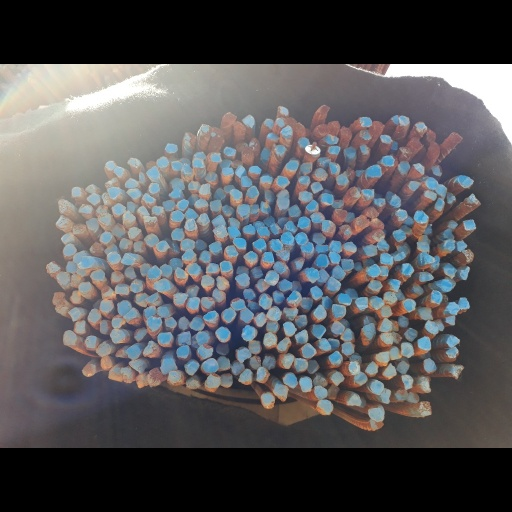dipstick: (352, 214, 370, 230), (76, 256, 95, 270), (111, 222, 127, 238), (416, 306, 433, 320), (55, 215, 70, 230), (221, 112, 237, 126), (366, 164, 382, 178), (420, 251, 436, 265), (368, 296, 384, 310), (100, 285, 115, 299), (147, 265, 162, 279), (397, 160, 411, 175), (402, 298, 416, 313), (424, 320, 439, 334), (423, 127, 436, 143), (457, 175, 473, 188), (461, 248, 474, 264), (89, 242, 103, 256), (313, 167, 327, 181), (399, 146, 413, 160), (414, 210, 428, 224), (446, 301, 460, 315), (45, 261, 60, 274), (144, 233, 159, 246), (160, 263, 173, 278), (180, 238, 195, 251), (366, 264, 381, 277), (322, 134, 339, 145), (378, 155, 395, 166), (56, 271, 69, 285), (129, 279, 143, 292), (241, 114, 255, 127), (306, 145, 320, 158), (299, 190, 313, 203), (320, 192, 334, 205), (450, 131, 464, 144), (427, 142, 440, 156), (411, 282, 424, 296), (401, 263, 414, 277), (364, 243, 378, 256), (86, 193, 101, 205), (72, 222, 87, 234), (72, 250, 87, 262), (87, 217, 99, 232), (111, 203, 126, 215), (120, 253, 135, 265), (110, 270, 125, 282), (90, 269, 105, 281), (411, 162, 426, 174), (369, 217, 384, 229), (391, 229, 406, 241), (430, 255, 440, 273), (57, 198, 68, 214), (445, 190, 456, 206), (363, 206, 379, 217), (63, 243, 76, 256), (99, 213, 112, 226), (213, 187, 226, 200), (300, 162, 313, 175), (430, 163, 443, 176), (425, 177, 438, 190), (442, 239, 455, 252), (443, 266, 456, 279), (432, 318, 445, 331), (355, 296, 368, 309), (169, 257, 183, 269), (185, 262, 199, 274), (182, 249, 196, 261), (170, 228, 184, 240), (183, 219, 197, 231), (162, 199, 176, 211), (170, 178, 184, 190), (182, 162, 194, 176), (211, 126, 223, 140), (248, 137, 260, 151), (276, 175, 290, 187), (245, 186, 259, 198), (336, 173, 348, 187), (415, 120, 427, 134), (469, 193, 481, 207), (394, 209, 408, 221), (458, 266, 470, 280), (443, 275, 455, 289), (376, 239, 390, 251), (367, 279, 381, 291), (383, 292, 397, 304), (115, 283, 130, 294), (184, 208, 199, 219), (358, 116, 373, 127), (360, 188, 375, 199), (436, 184, 447, 199), (399, 225, 414, 236), (419, 271, 434, 282), (65, 260, 77, 273), (99, 231, 112, 243), (96, 204, 109, 216), (146, 166, 159, 178), (123, 211, 136, 223), (107, 252, 120, 264), (199, 250, 211, 263), (176, 199, 189, 211), (233, 121, 246, 133), (340, 126, 352, 139), (371, 121, 384, 133), (343, 146, 356, 158), (343, 167, 355, 180), (409, 138, 422, 150), (463, 219, 476, 231), (442, 228, 455, 240), (372, 229, 385, 241), (440, 279, 452, 292), (345, 287, 358, 299), (125, 177, 139, 188), (127, 227, 141, 238), (119, 238, 133, 249), (70, 273, 81, 287), (78, 282, 92, 293), (242, 146, 253, 160), (260, 146, 271, 160), (284, 160, 298, 171), (317, 124, 331, 135), (390, 194, 401, 208), (430, 290, 441, 304), (389, 278, 400, 292), (126, 188, 141, 198), (155, 241, 170, 251), (316, 157, 331, 167), (127, 156, 139, 168), (108, 187, 120, 199), (133, 240, 145, 252), (124, 266, 136, 278), (348, 186, 360, 198), (456, 240, 468, 252), (380, 305, 392, 317), (126, 200, 137, 213), (139, 263, 150, 276), (175, 266, 186, 279), (168, 187, 181, 198), (165, 143, 178, 154), (192, 157, 205, 168), (187, 180, 200, 191), (183, 131, 196, 142), (200, 124, 211, 137), (328, 120, 341, 131), (329, 162, 340, 175), (310, 181, 323, 192), (416, 241, 429, 252), (458, 296, 469, 309), (60, 233, 74, 243), (142, 193, 156, 203), (194, 198, 208, 208), (434, 197, 444, 211), (391, 251, 405, 261), (416, 234, 431, 243), (113, 166, 124, 178), (148, 182, 160, 193), (138, 205, 150, 216), (187, 193, 198, 205), (234, 165, 245, 177), (277, 105, 289, 116), (281, 126, 293, 137), (241, 175, 252, 187), (230, 189, 242, 200), (318, 104, 330, 115), (398, 115, 410, 126), (379, 133, 391, 144), (104, 160, 117, 170), (79, 203, 92, 213), (105, 244, 118, 254), (204, 171, 217, 181), (223, 146, 236, 156), (327, 145, 340, 155), (407, 181, 420, 191), (423, 190, 436, 200), (379, 253, 392, 263), (83, 184, 97, 193), (171, 211, 185, 220), (208, 153, 222, 162), (358, 130, 372, 139), (157, 156, 168, 167), (199, 183, 210, 194), (210, 200, 221, 211), (220, 157, 231, 168), (263, 118, 274, 129), (359, 144, 370, 155), (151, 205, 163, 215), (231, 158, 243, 168), (235, 142, 247, 152), (274, 145, 286, 155), (297, 137, 309, 147), (259, 175, 272, 184), (144, 217, 158, 225), (373, 198, 387, 206), (71, 187, 82, 197), (171, 160, 182, 170), (446, 219, 457, 229), (444, 315, 455, 325), (179, 157, 191, 166), (267, 132, 279, 141), (298, 175, 310, 184), (332, 199, 344, 208), (75, 269, 88, 277), (192, 151, 205, 159), (248, 166, 261, 174), (223, 184, 236, 192), (275, 117, 285, 127), (222, 167, 233, 176), (389, 115, 399, 124), (378, 266, 387, 276), (355, 168, 366, 176), (390, 139, 398, 150), (425, 224, 433, 235), (139, 172, 145, 184)
